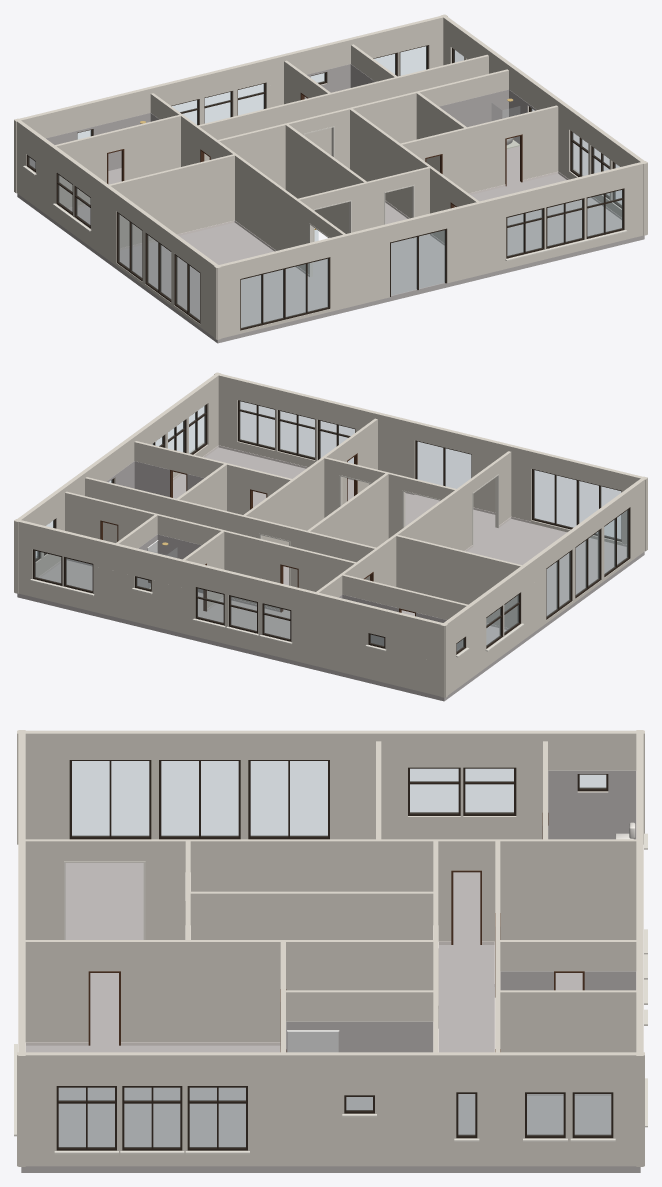
File: int_est_S2_1.glb
3 renders of one model, top to bottom at view 1: azimuth 30°, elevation 25°; view 2: azimuth 150°, elevation 25°; view 3: azimuth 270°, elevation 25°, orthographic. The views are drawn at different scales.
Parts seen in each view (by area): view 1: WALL_0, ROOM, WALL_5, WALL_15, WALL_7, WALL_9, WALL_4, WALL_10, WALL_1, WALL_13, WALL_14, WALL_2 (+5 smaller); view 2: WALL_15, WALL_0, ROOM, WALL_5, WALL_13, WALL_10, WALL_4, WALL_1, WALL_7, WALL_2, WALL_9, WALL_6 (+5 smaller); view 3: WALL_10, WALL_5, ROOM, WALL_1, WALL_2, WALL_8, WALL_12, WALL_11, WALL_3, WALL_4, WALL_15, WALL_0 (+3 smaller).
Part boxes in pixels (x1,y1,x2,y2): WALL_0: (214,161,647,339); ROOM: (17,64,644,343); WALL_5: (14,118,221,339); WALL_15: (14,14,447,193); WALL_7: (218,69,508,189); WALL_9: (399,105,558,193); WALL_4: (91,154,234,248); WALL_10: (441,14,647,235); WALL_1: (150,93,345,276); WALL_13: (198,54,488,161); WALL_14: (55,115,180,208); WALL_2: (350,108,478,243); WALL_15: (14,519,447,697); WALL_0: (214,372,647,551); ROOM: (17,445,644,701); WALL_5: (440,476,647,697); WALL_13: (65,491,355,612); WALL_10: (14,372,220,593); WALL_4: (396,535,546,628); WALL_1: (316,451,511,597); WALL_7: (85,477,375,587); WALL_2: (243,418,377,545); WALL_9: (134,441,293,514); WALL_6: (324,457,455,538); WALL_10: (17,1052,644,1166); WALL_5: (17,730,644,844); ROOM: (21,770,640,1172); WALL_1: (25,839,636,944); WALL_2: (25,940,433,1045); WALL_8: (188,891,433,939); WALL_12: (500,990,643,1092); WALL_11: (286,990,433,1021); WALL_3: (500,940,636,990); WALL_4: (330,741,407,839); WALL_15: (636,730,647,1166); WALL_0: (14,730,25,1166).
Size of the model in its own units: 22.83 by 3.85 by 18.63.
Materials: 12 (1 with a texture image).
